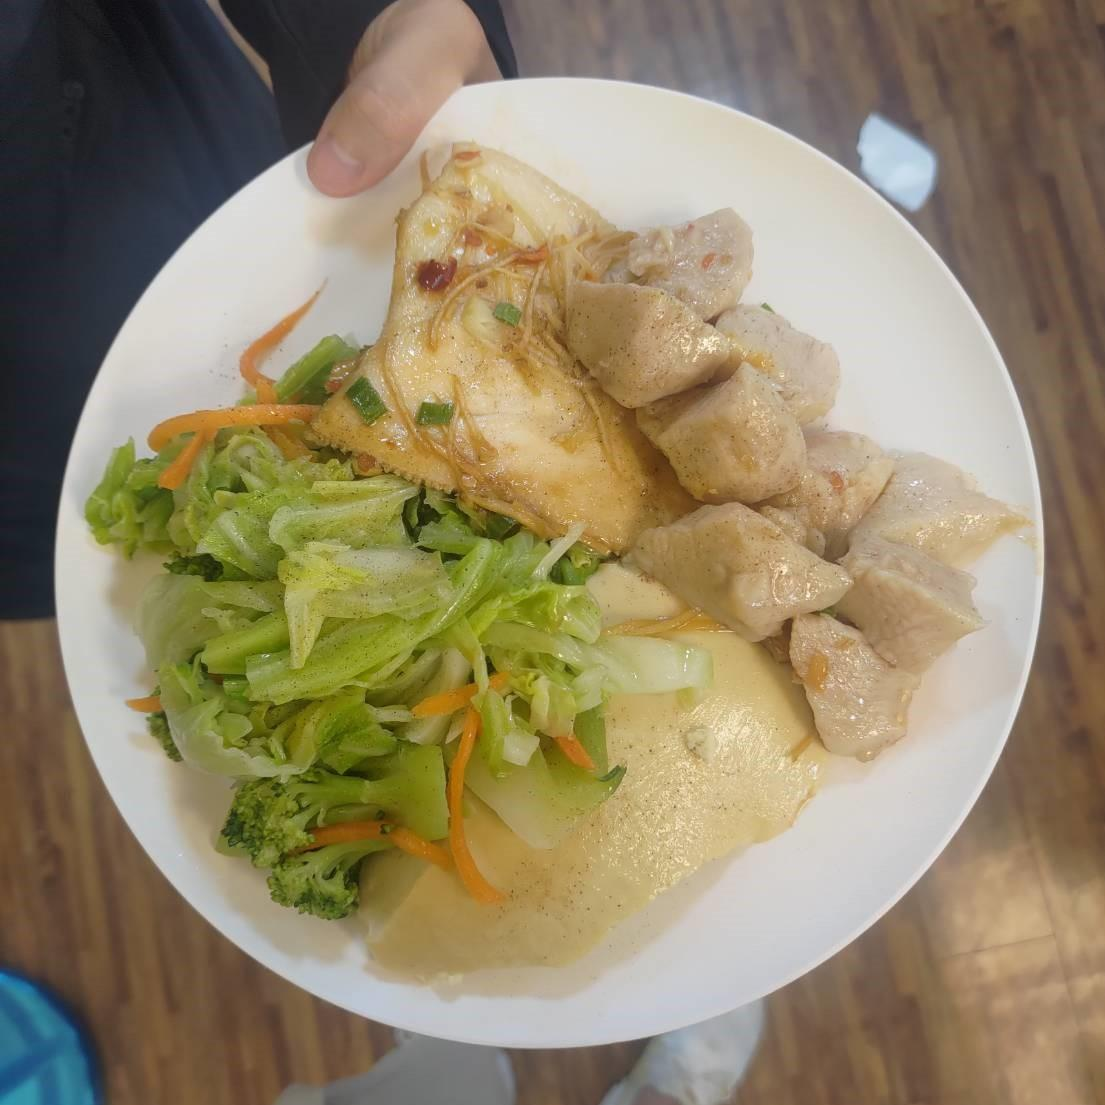big fried chicken leg: (35, 59, 1058, 1057)
braised fish fillet: (88, 351, 584, 913), (344, 571, 826, 997)
braised pork: (583, 209, 1018, 755)
braised pork ribs: (338, 141, 696, 555)
